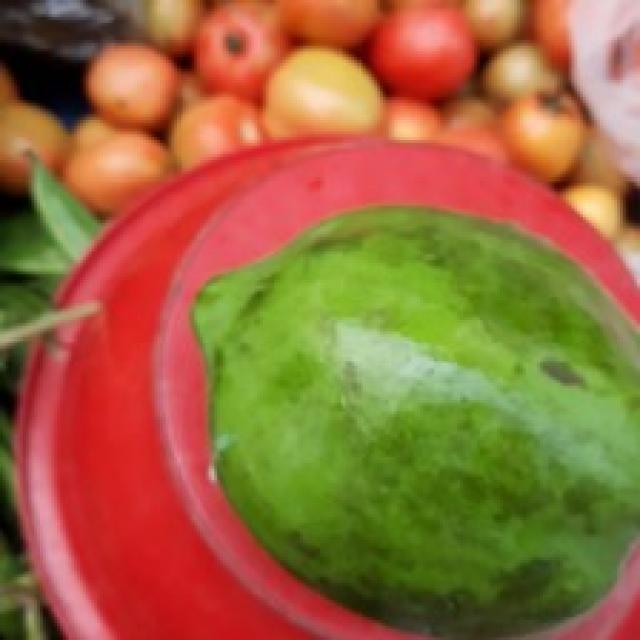Pepaya unrippen: (191, 211, 640, 640)
